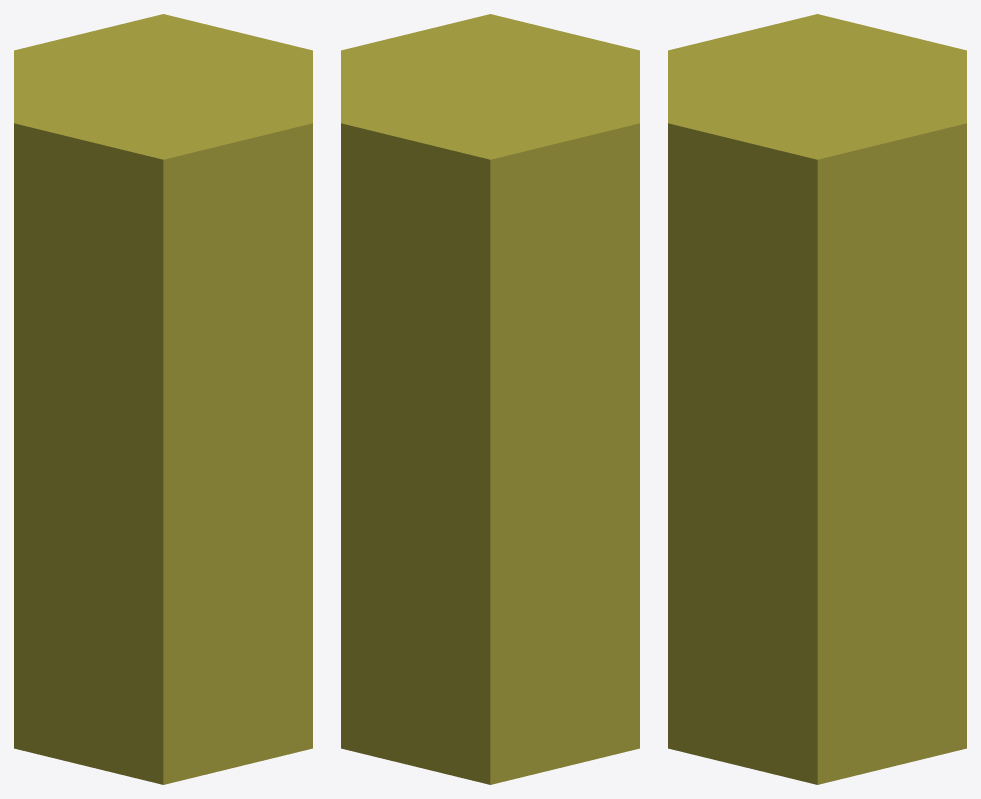
File: GB_Lighthouse_Minor_03.fbx
The picture shows the model from 3 angles, left to right: view 1: azimuth 30°, elevation 25°; view 2: azimuth 150°, elevation 25°; view 3: azimuth 270°, elevation 25°; orthographic projection.
Visible parts, largest first — view 1: Lighthouse_Minor; view 2: Lighthouse_Minor; view 3: Lighthouse_Minor.
Boxes of the visible parts, bbox=[...] form: Lighthouse_Minor: bbox=[14, 14, 312, 784]; Lighthouse_Minor: bbox=[341, 14, 639, 784]; Lighthouse_Minor: bbox=[668, 14, 966, 784].
Size of the model in its own units: 100 by 200 by 86.6.
